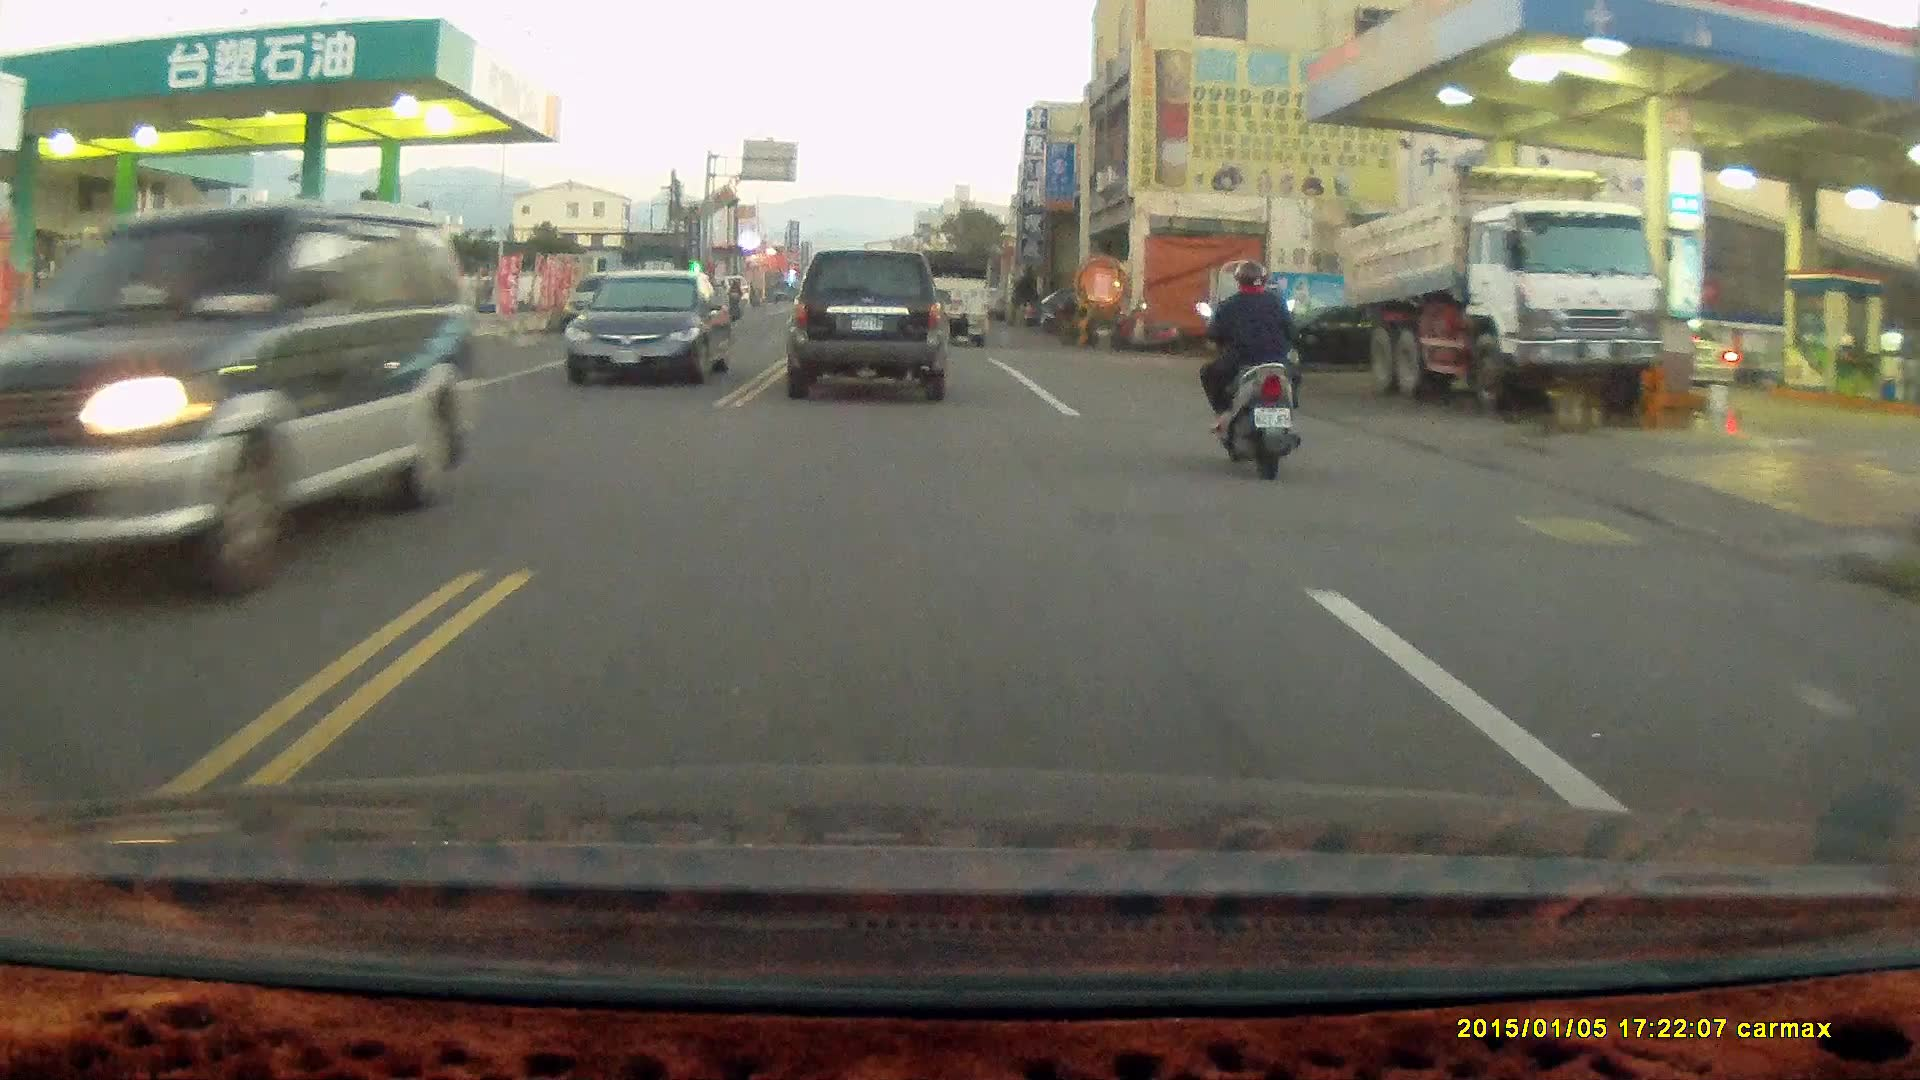rider: (1195, 259, 1303, 482)
vehicle: (1, 202, 487, 597), (1342, 166, 1663, 404), (793, 247, 953, 401), (568, 267, 736, 390), (900, 251, 993, 349)
